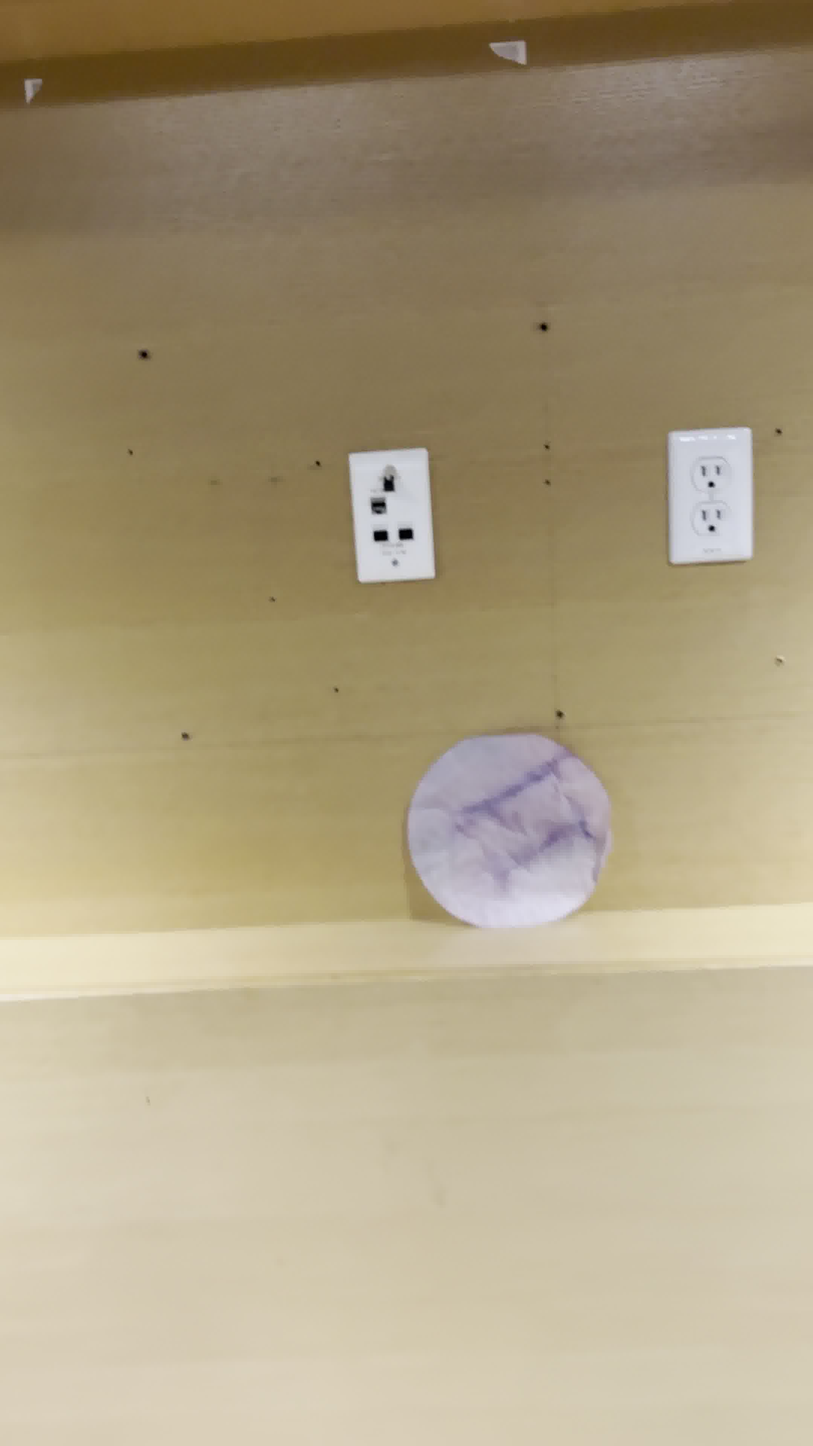Target: (394, 734, 618, 934)
